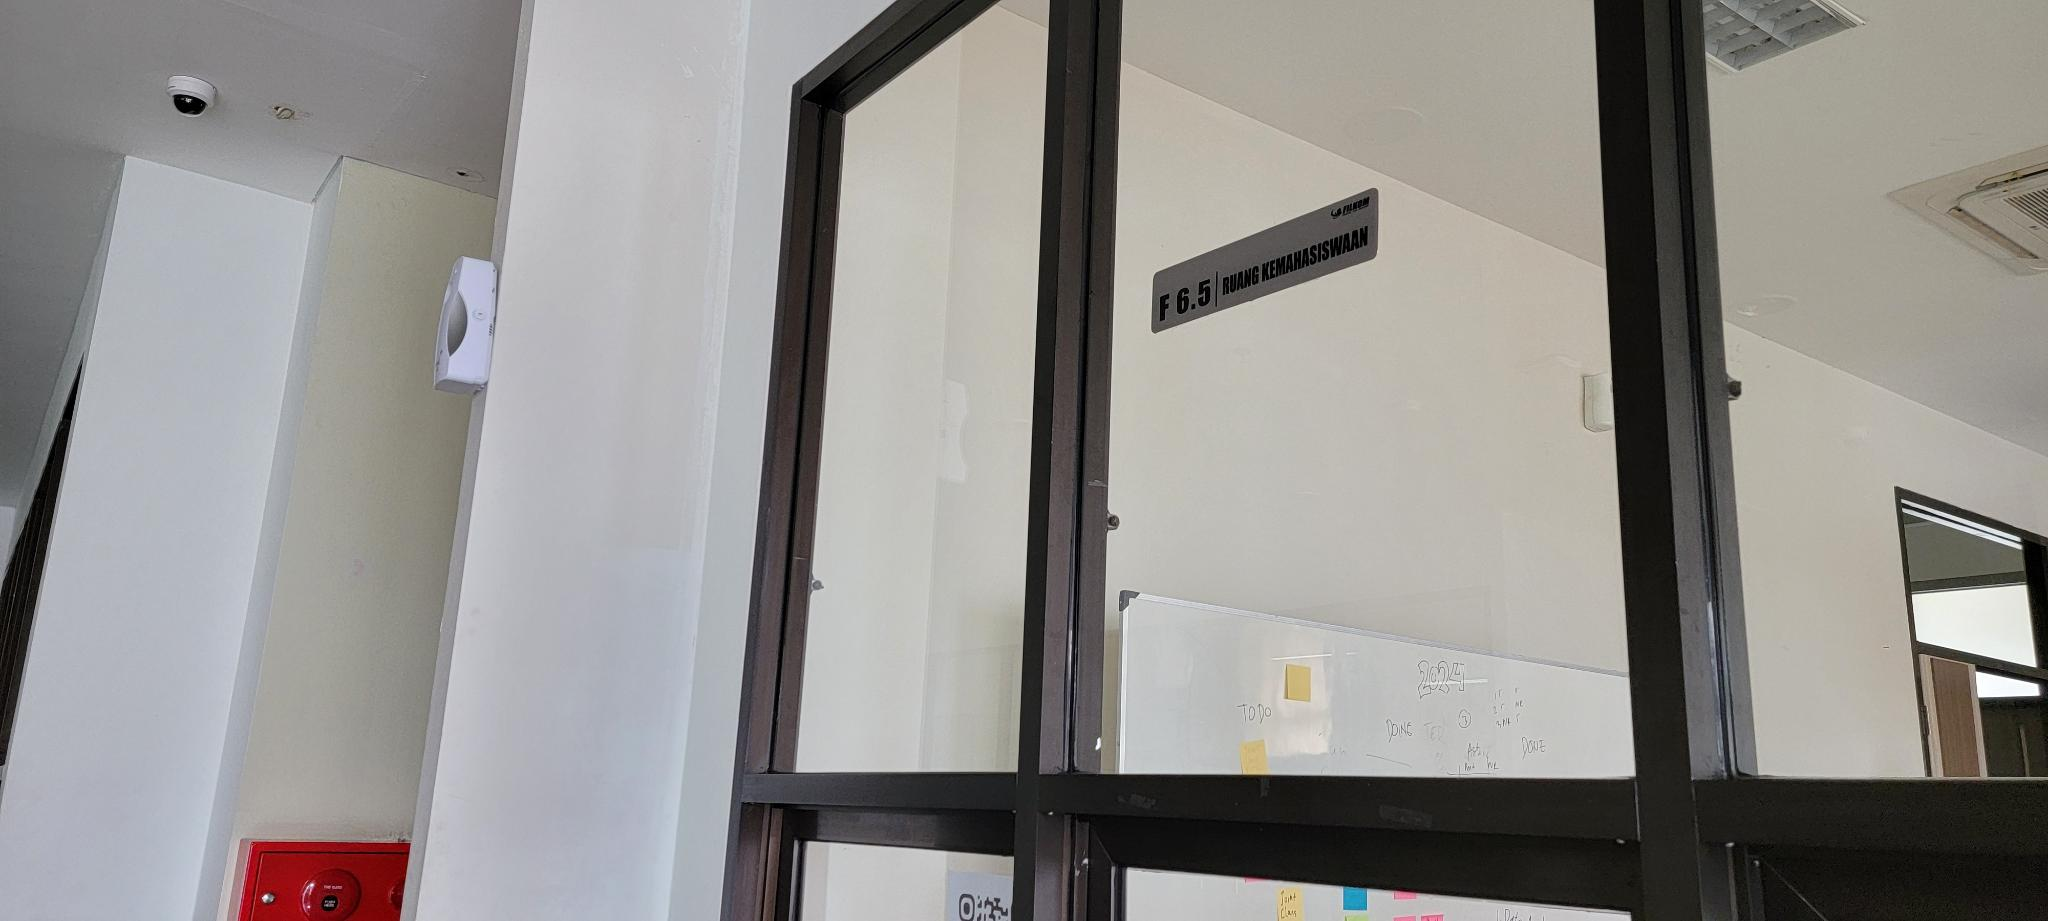plate: (1152, 187, 1379, 334)
